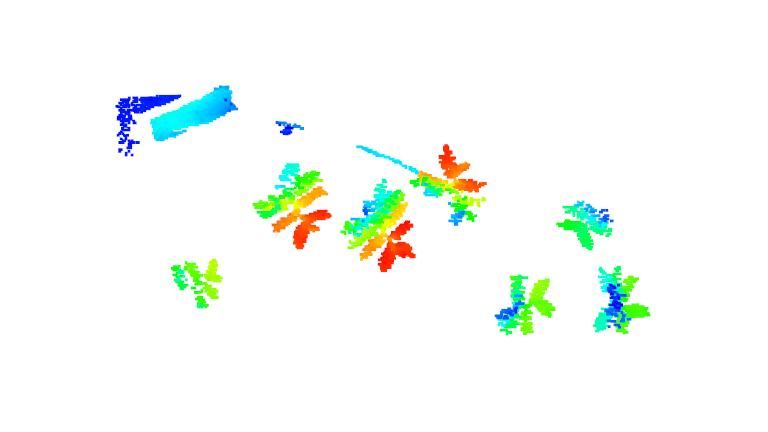chickpea: (339, 178, 418, 273), (253, 160, 332, 249), (409, 145, 485, 225), (588, 264, 652, 336), (492, 272, 557, 335), (169, 256, 226, 310), (556, 202, 614, 248)
